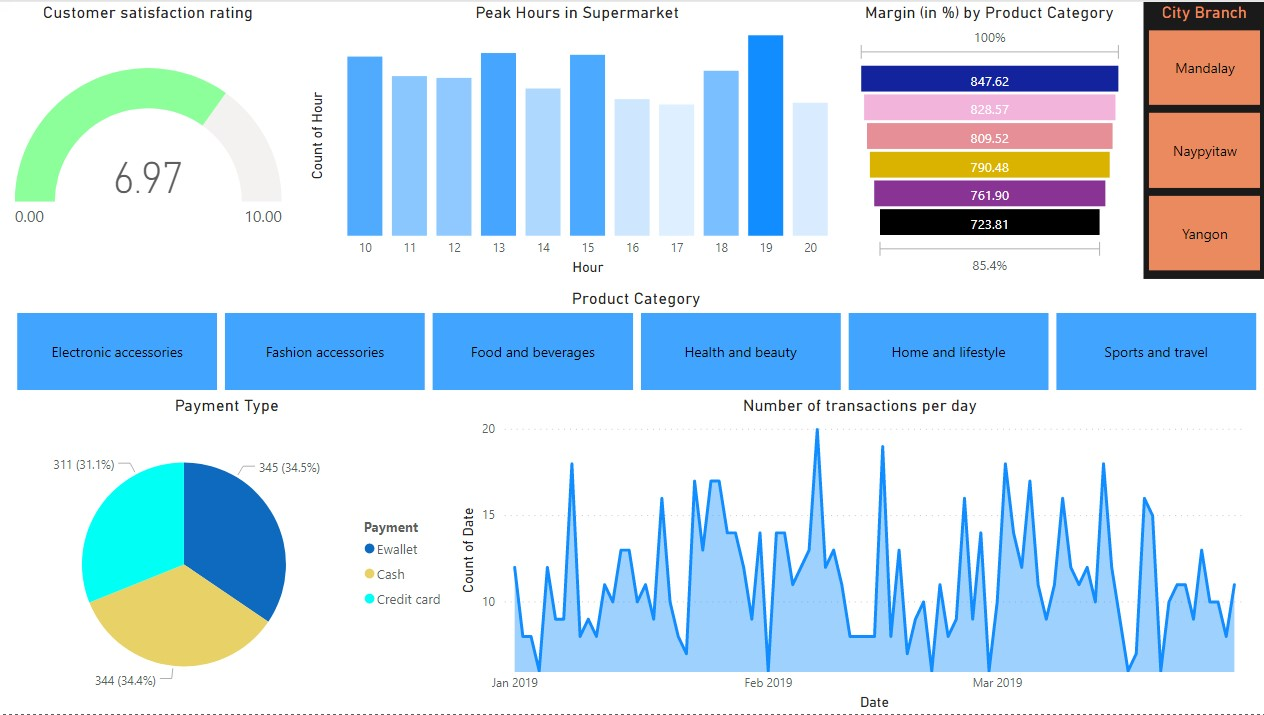

The dashboard page shown, as its layout file describes it:
{"tool":"powerbi","page":{"name":"Page 1","canvas":[1280,720],"ordinal":0},"visuals":[{"type":"gauge","title":"Customer satisfaction rating","fields":{"Y":["Avg(supermarket_sales - Sheet1.Rating)"],"MaxValue":["Max(supermarket_sales - Sheet1.Rating)"]},"box":[10,0,280,280],"z":0},{"type":"enlightenSlicerB18DC0CE4A1F4BA79CE49FBE40F3965F","title":"City Branch","fields":{"category":["supermarket_sales - Sheet1.City"]},"box":[1156.8,0,123.2,280],"z":1000},{"type":"clusteredColumnChart","title":"Peak Hours in Supermarket","fields":{"Y":["CountNonNull(supermarket_sales - Sheet1.Hour)"],"Category":["supermarket_sales - Sheet1.Hour","supermarket_sales - Sheet1.Time Hierarchy.Time","supermarket_sales - Sheet1.Time Hierarchy.Hour"]},"box":[307.2,0,553.6,280],"z":2000},{"type":"funnel","title":"Margin (in %) by Product Category","fields":{"Category":["supermarket_sales - Sheet1.Product line"],"Y":["Sum(supermarket_sales - Sheet1.gross margin percentage)"]},"box":[860.8,0,280,280],"z":3000},{"type":"enlightenSlicerB18DC0CE4A1F4BA79CE49FBE40F3965F","title":"Product Category","fields":{"category":["supermarket_sales - Sheet1.Product line"]},"box":[9.6,289.6,1270.4,107.2],"z":4000},{"type":"pieChart","title":"Payment Type","fields":{"Series":["supermarket_sales - Sheet1.Payment"],"Y":["CountNonNull(supermarket_sales - Sheet1.Payment)"]},"box":[0,396.8,460.8,323.2],"z":5000},{"type":"areaChart","title":"Number of transactions per day","fields":{"Category":["supermarket_sales - Sheet1.Date"],"Y":["CountNonNull(supermarket_sales - Sheet1.Date)"]},"box":[461,397,819,323],"z":6000}]}

Visuals, with their boxes in screenshot pixels (x1, y1, x2, y2), scaled from the page's 1280x720 canvas onto the 1264x715 screenshot:
"Customer satisfaction rating" gauge: 10, 0, 286, 278
"City Branch" enlightenSlicerB18DC0CE4A1F4BA79CE49FBE40F3965F: 1142, 0, 1263, 278
"Peak Hours in Supermarket" clusteredColumnChart: 303, 0, 850, 278
"Margin (in %) by Product Category" funnel: 850, 0, 1127, 278
"Product Category" enlightenSlicerB18DC0CE4A1F4BA79CE49FBE40F3965F: 9, 288, 1263, 394
"Payment Type" pieChart: 0, 394, 455, 714
"Number of transactions per day" areaChart: 455, 394, 1263, 714
